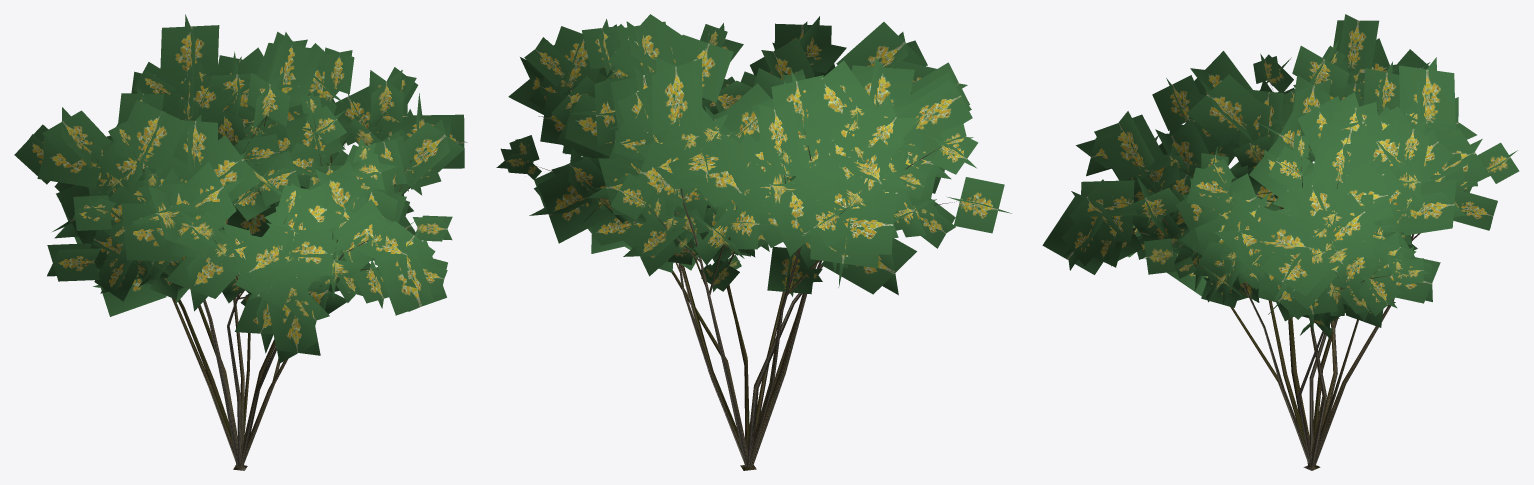
File: eztree-bush.glb
The picture shows the model from 3 angles, left to right: view 1: azimuth 30°, elevation 25°; view 2: azimuth 150°, elevation 25°; view 3: azimuth 270°, elevation 25°; orthographic projection. The views are drawn at different scales.
Visible parts, largest first — view 1: LOD0; view 2: LOD0; view 3: LOD0.
Boxes of the visible parts, <box> form: LOD0: <box>14,14,467,470</box>; LOD0: <box>496,14,1011,470</box>; LOD0: <box>1042,14,1519,470</box>.
Size of what is drawn, in the model's own units: 1.77 by 1.6 by 1.7.
2 materials, 2 textured.
